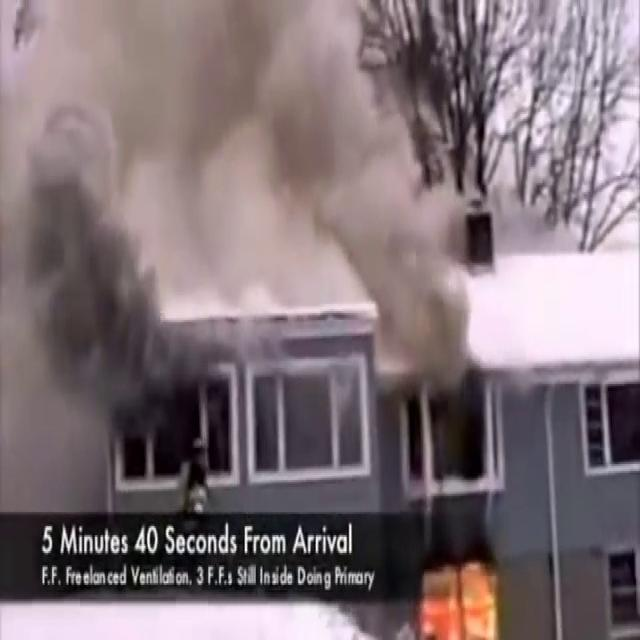Smoke: (2, 0, 475, 343)
